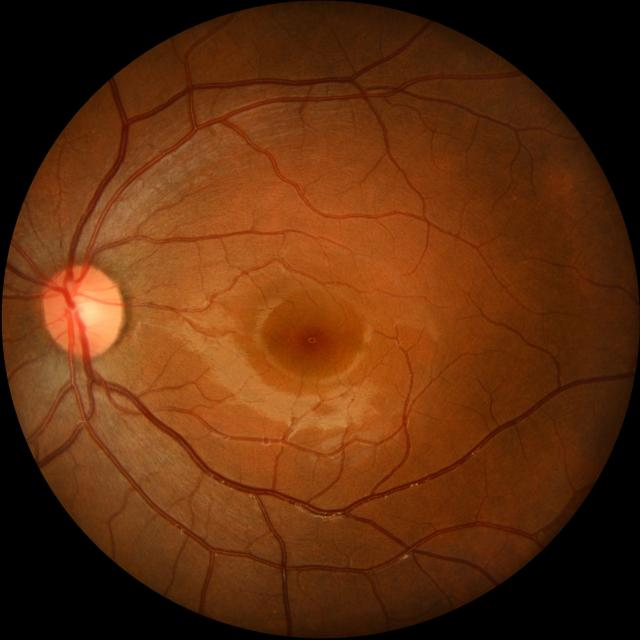OC: (65, 289, 104, 326)
OD: (41, 263, 123, 357)
